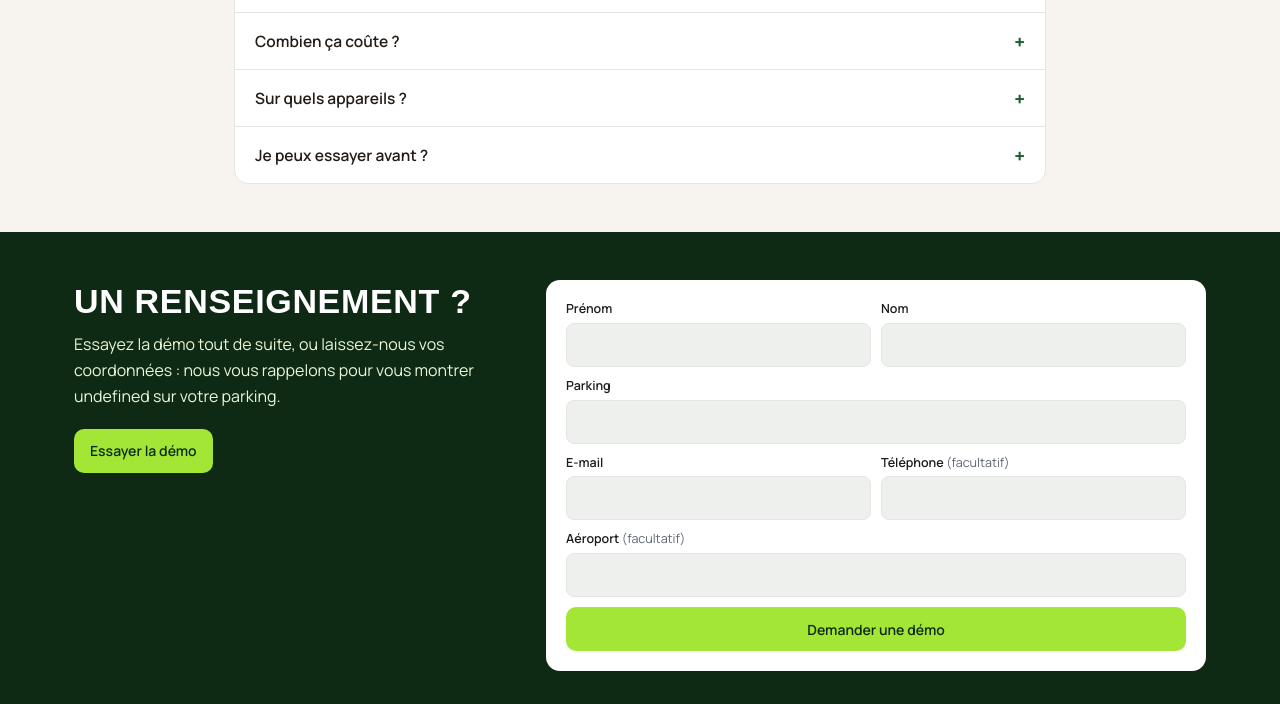
Test: ProHome › sends a demo request without a selection
This screenshot has width=1280, height=704.
(page scrolled)
Type "Camille" into the field labelled "Prénom" at x=718, y=345, box [566,323,871,367]
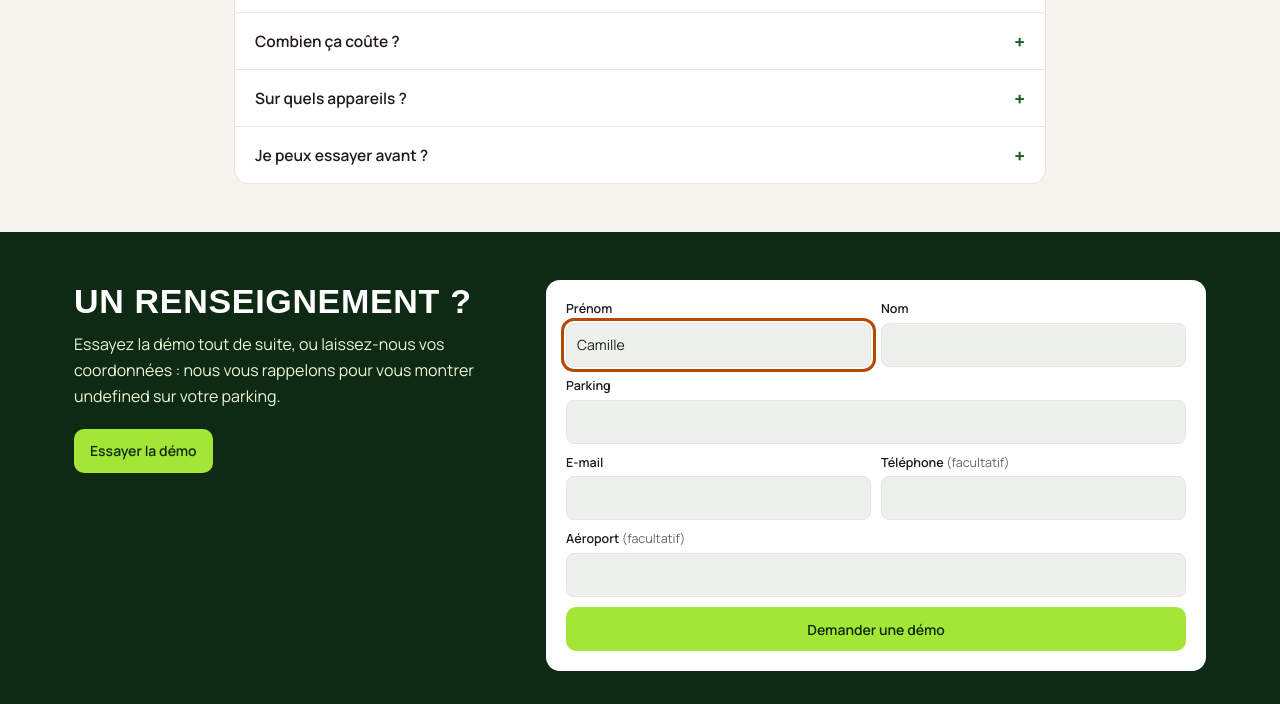
Type "Martin" into the field labelled "Nom" at x=1034, y=345, box [881,323,1186,367]
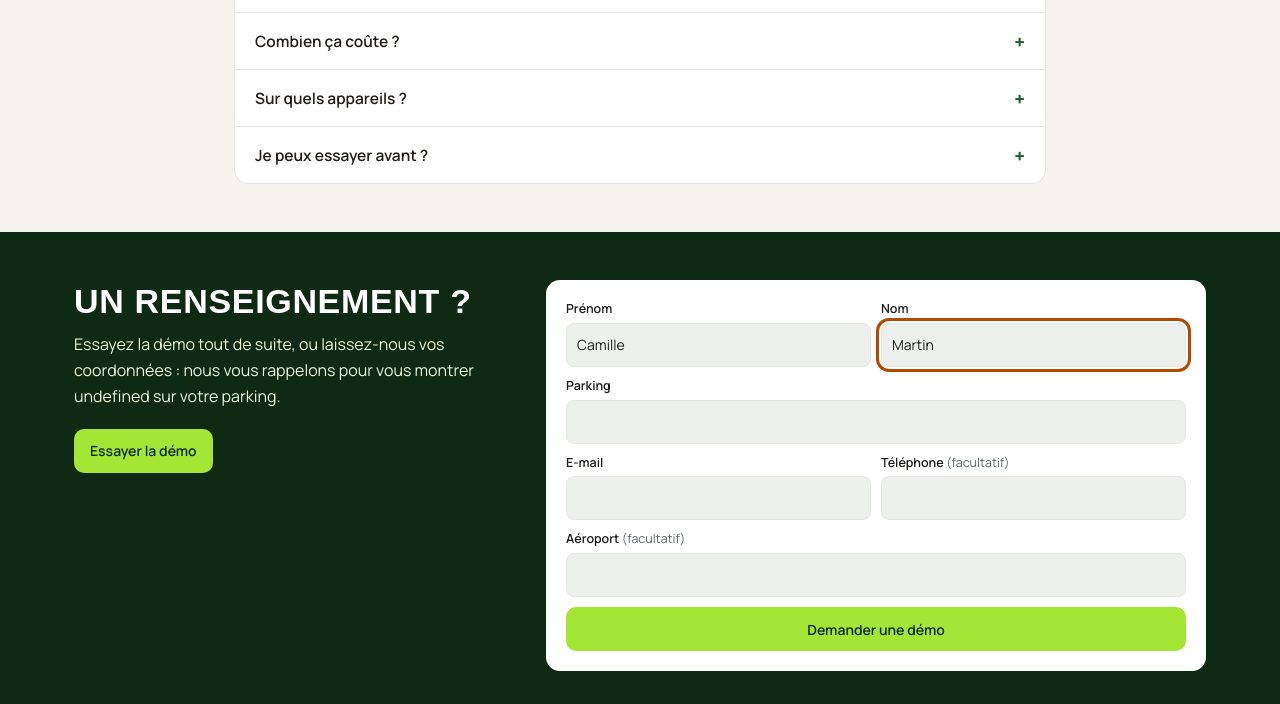
Type "Parking des Cèdres" into the field labelled "Parking" at x=876, y=422, box [566,400,1186,444]
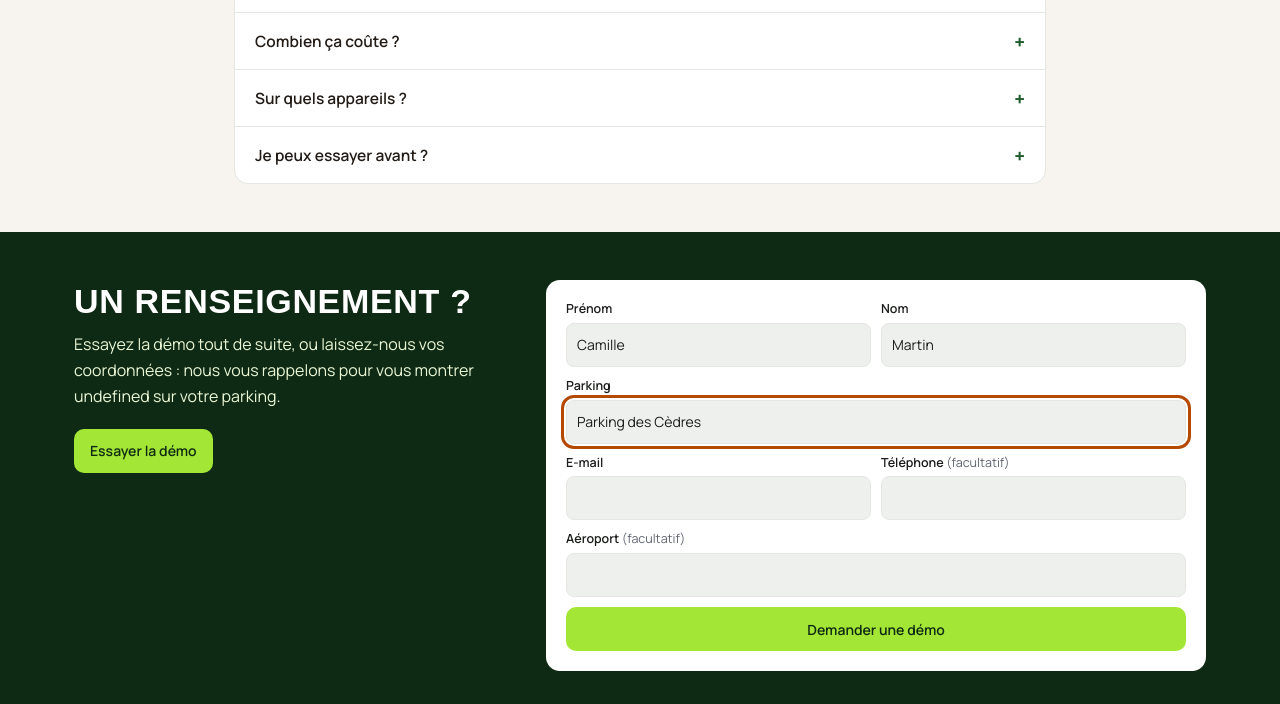
Type "camille@parking.fr" into the field labelled "E-mail" at x=718, y=498, box [566,476,871,520]
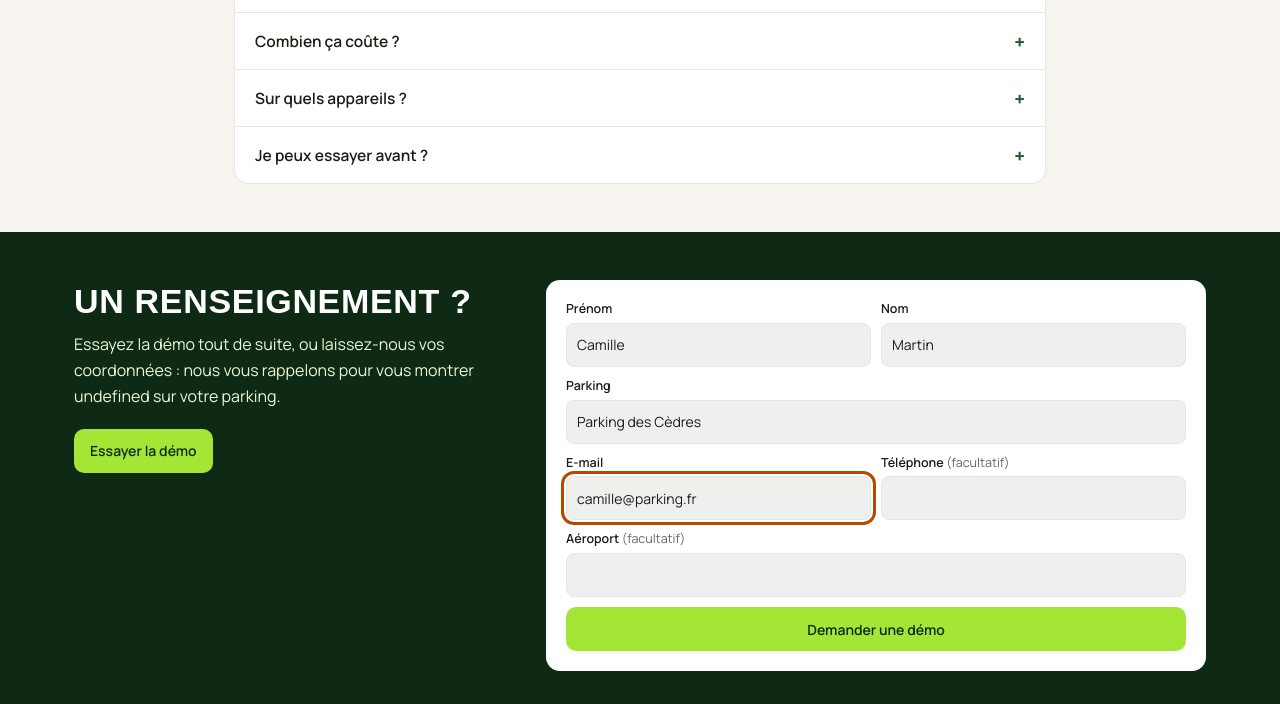
Click the button "Demander une démo" at x=876, y=629, box [566,607,1186,651]
(page scrolled)
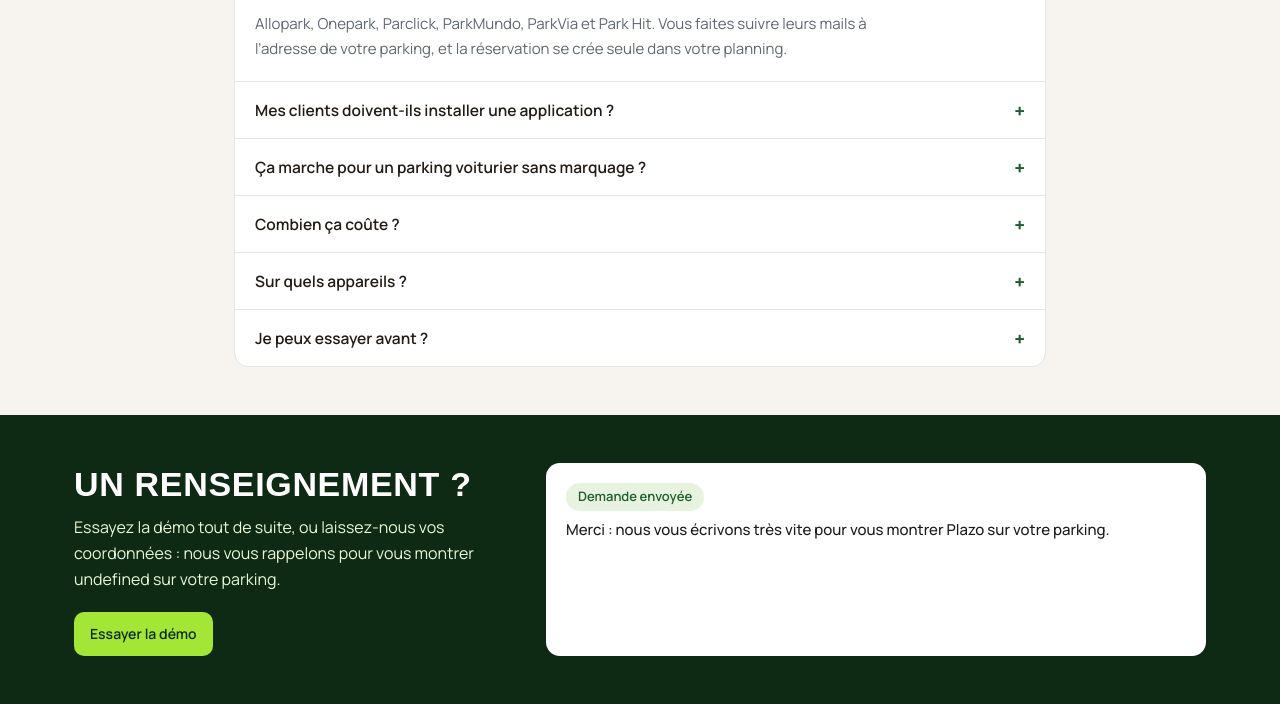
Expected: the text "nous vous écrivons très vite pour vous montrer Plazo" is shown, [566,519,1110,540]
